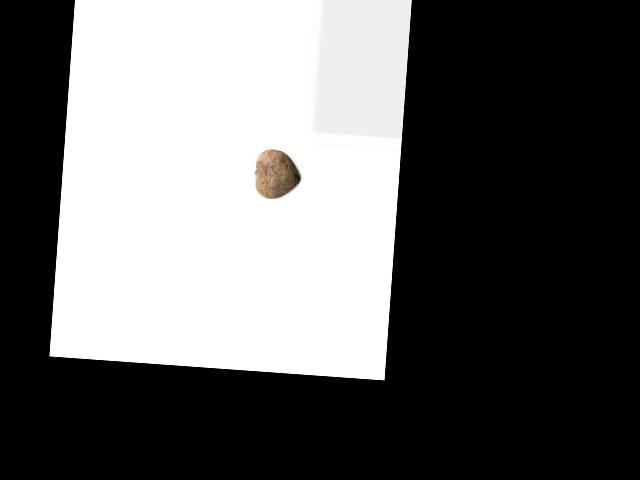beet: (253, 147, 302, 200)
